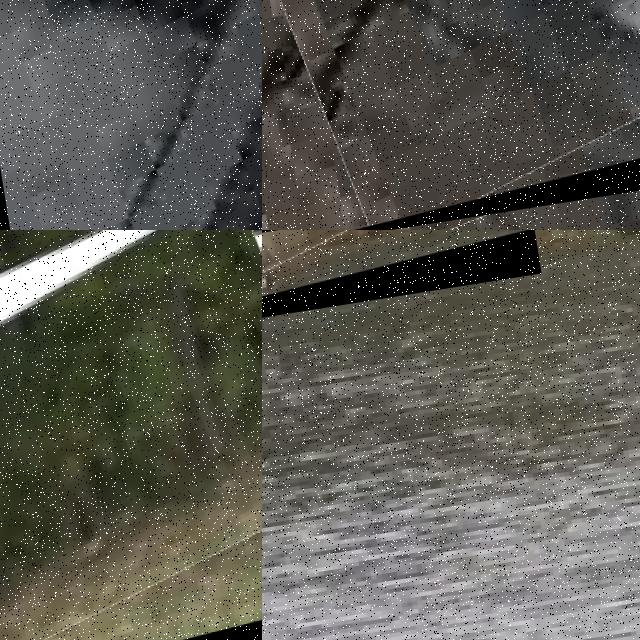0: (262, 0, 640, 230), (0, 0, 262, 230)
drone: (0, 230, 262, 640), (262, 230, 542, 354)
